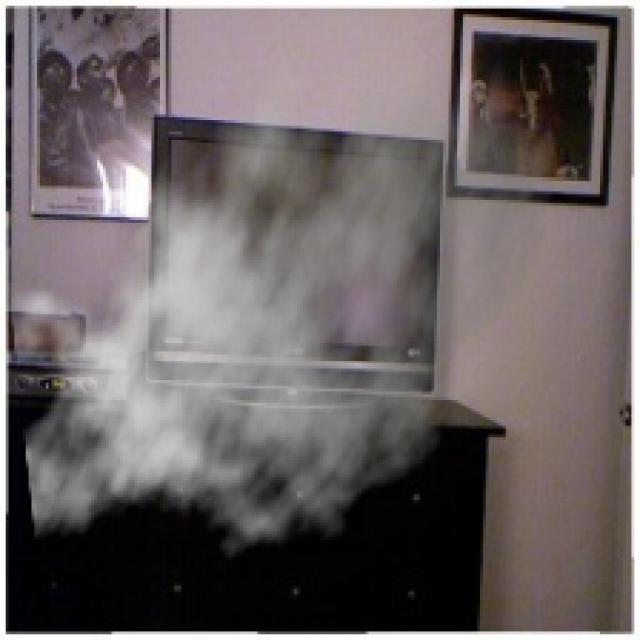Smoke: (8, 9, 563, 578)
